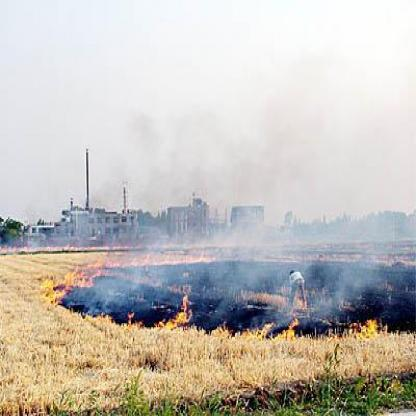fire: (44, 258, 216, 303), (148, 292, 204, 339), (252, 310, 305, 342), (353, 310, 394, 342)
smoke: (228, 213, 270, 269)
